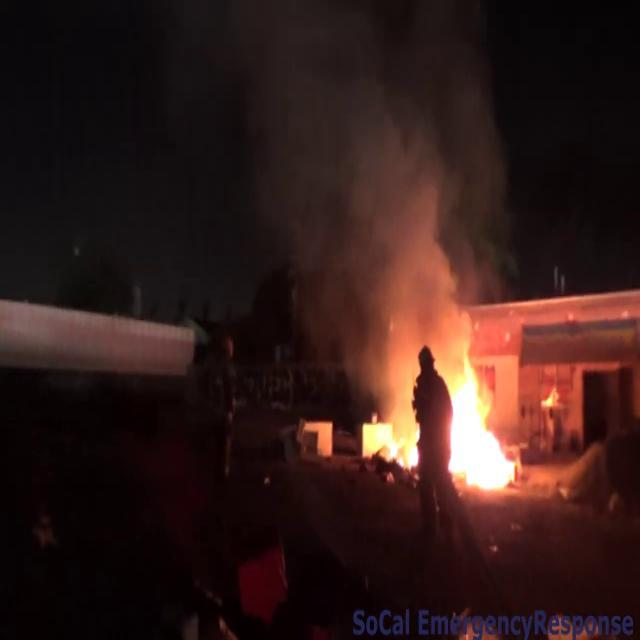Fire: (440, 338, 522, 496), (360, 386, 424, 474)
Smoke: (210, 1, 516, 352)
